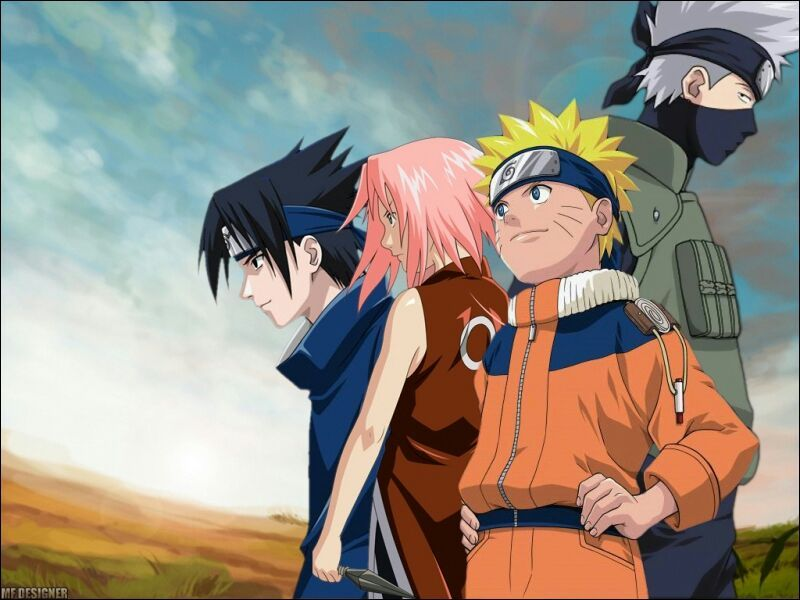kakashi: (645, 23, 779, 171)
naruto: (487, 146, 617, 279)
sakura: (361, 149, 472, 276)
sasuke: (216, 205, 335, 332)
